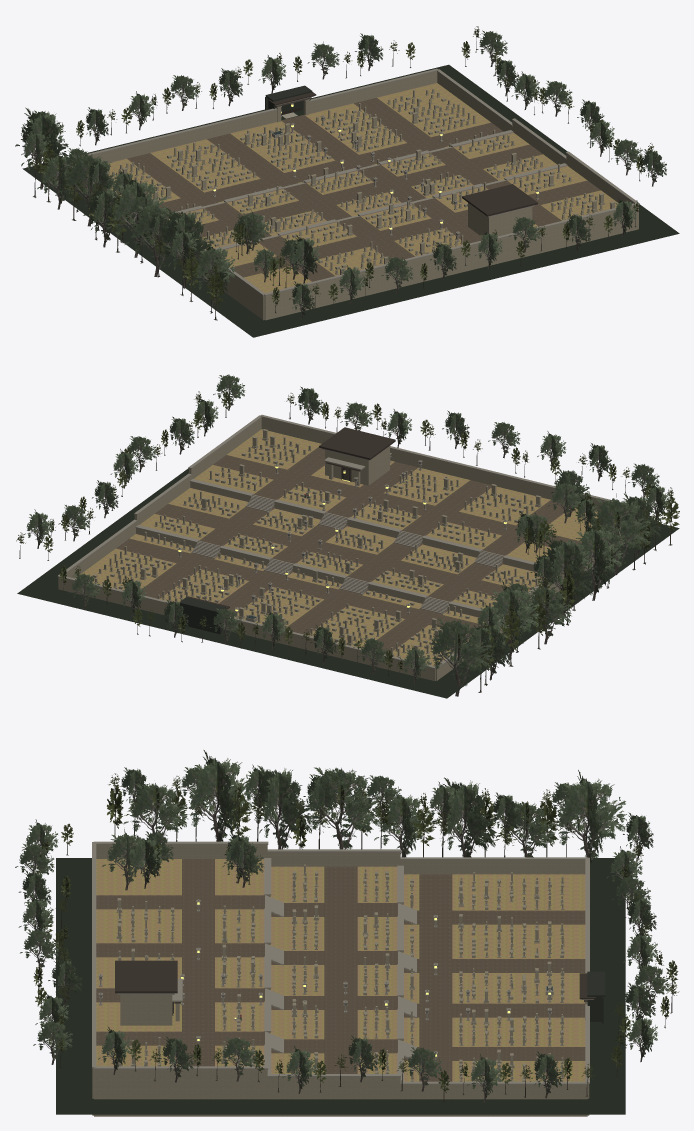
The model's file is old-cemetery.glb.
The picture shows the model from 3 angles, top to bottom: view 1: azimuth 30°, elevation 25°; view 2: azimuth 150°, elevation 25°; view 3: azimuth 270°, elevation 25°; orthographic projection. The views are drawn at different scales.
Parts seen in each view (by area): view 1: bake:picture:cutout:billboard-tree_small.png, bake:herringbone_pavement:paving:#c6bfa8, bake:leafy_grass:turf, bake:concrete_wall_007:concrete:#8c8779, bake:plain:plain:#242a20:1.00:0.00:None, bake:plain:plain:#8a8477:1.00:0.00:None, bake:concrete_wall_007:concrete:#828c70, bake:concrete_wall_007:concrete:#bdb7a8, bake:picture:cutout:billboard-fir_a.png, bake:concrete_wall_007:concrete:#8e877c, bake:picture:cutout:billboard-fir_b.png, bake:plain:plain:#3b332d:1.00:0.00:None (+1 smaller); view 2: bake:picture:cutout:billboard-tree_small.png, bake:leafy_grass:turf, bake:herringbone_pavement:paving:#c6bfa8, bake:concrete_wall_007:concrete:#8c8779, bake:plain:plain:#242a20:1.00:0.00:None, bake:plain:plain:#8a8477:1.00:0.00:None, bake:concrete_wall_007:concrete:#828c70, bake:picture:cutout:billboard-fir_a.png, bake:concrete_wall_007:concrete:#bdb7a8, bake:concrete_wall_007:concrete:#8e877c, bake:picture:cutout:billboard-fir_b.png, bake:plain:plain:#3b332d:1.00:0.00:None (+1 smaller); view 3: bake:picture:cutout:billboard-tree_small.png, bake:leafy_grass:turf, bake:herringbone_pavement:paving:#c6bfa8, bake:plain:plain:#242a20:1.00:0.00:None, bake:concrete_wall_007:concrete:#8c8779, bake:plain:plain:#8a8477:1.00:0.00:None, bake:picture:cutout:billboard-fir_a.png, bake:concrete_wall_007:concrete:#828c70, bake:concrete_wall_007:concrete:#bdb7a8, bake:picture:cutout:billboard-fir_b.png, bake:concrete_wall_007:concrete:#8e877c, bake:plain:plain:#3b332d:1.00:0.00:None (+1 smaller).
Boxes of the visible parts, left/top/right/bottom form: bake:picture:cutout:billboard-tree_small.png: left=15, top=30, right=666, bottom=319; bake:herringbone_pavement:paving:#c6bfa8: left=127, top=97, right=600, bottom=281; bake:leafy_grass:turf: left=107, top=83, right=618, bottom=293; bake:concrete_wall_007:concrete:#8c8779: left=65, top=71, right=638, bottom=320; bake:plain:plain:#242a20:1.00:0.00:None: left=22, top=64, right=679, bottom=337; bake:plain:plain:#8a8477:1.00:0.00:None: left=70, top=68, right=639, bottom=295; bake:concrete_wall_007:concrete:#828c70: left=107, top=92, right=615, bottom=274; bake:concrete_wall_007:concrete:#bdb7a8: left=112, top=89, right=605, bottom=270; bake:picture:cutout:billboard-fir_a.png: left=38, top=41, right=642, bottom=320; bake:concrete_wall_007:concrete:#8e877c: left=108, top=90, right=593, bottom=274; bake:picture:cutout:billboard-fir_b.png: left=27, top=26, right=653, bottom=313; bake:plain:plain:#3b332d:1.00:0.00:None: left=268, top=92, right=537, bottom=216; bake:picture:cutout:billboard-tree_small.png: left=23, top=374, right=669, bottom=696; bake:leafy_grass:turf: left=75, top=429, right=613, bottom=666; bake:herringbone_pavement:paving:#c6bfa8: left=116, top=447, right=581, bottom=654; bake:concrete_wall_007:concrete:#8c8779: left=58, top=417, right=635, bottom=680; bake:plain:plain:#242a20:1.00:0.00:None: left=17, top=468, right=679, bottom=698; bake:plain:plain:#8a8477:1.00:0.00:None: left=57, top=414, right=612, bottom=669; bake:concrete_wall_007:concrete:#828c70: left=88, top=429, right=542, bottom=665; bake:picture:cutout:billboard-fir_a.png: left=43, top=391, right=679, bottom=685; bake:concrete_wall_007:concrete:#bdb7a8: left=92, top=435, right=537, bottom=665; bake:concrete_wall_007:concrete:#8e877c: left=98, top=444, right=534, bottom=660; bake:picture:cutout:billboard-fir_b.png: left=16, top=391, right=674, bottom=692; bake:plain:plain:#3b332d:1.00:0.00:None: left=187, top=427, right=395, bottom=609; bake:picture:cutout:billboard-tree_small.png: left=15, top=750, right=669, bottom=1102; bake:leafy_grass:turf: left=96, top=859, right=585, bottom=1081; bake:herringbone_pavement:paving:#c6bfa8: left=96, top=859, right=585, bottom=1081; bake:plain:plain:#242a20:1.00:0.00:None: left=56, top=858, right=625, bottom=1114; bake:concrete_wall_007:concrete:#8c8779: left=92, top=845, right=589, bottom=1116; bake:plain:plain:#8a8477:1.00:0.00:None: left=92, top=841, right=593, bottom=1084; bake:picture:cutout:billboard-fir_a.png: left=33, top=777, right=678, bottom=1102; bake:concrete_wall_007:concrete:#828c70: left=116, top=871, right=564, bottom=1081; bake:concrete_wall_007:concrete:#bdb7a8: left=117, top=864, right=564, bottom=1081; bake:picture:cutout:billboard-fir_b.png: left=34, top=773, right=679, bottom=1097; bake:concrete_wall_007:concrete:#8e877c: left=116, top=872, right=564, bottom=1081; bake:plain:plain:#3b332d:1.00:0.00:None: left=115, top=960, right=595, bottom=999.
Bounding box in the file's own units: 145 × 27.17 × 140.
20 materials, 7 textured.
